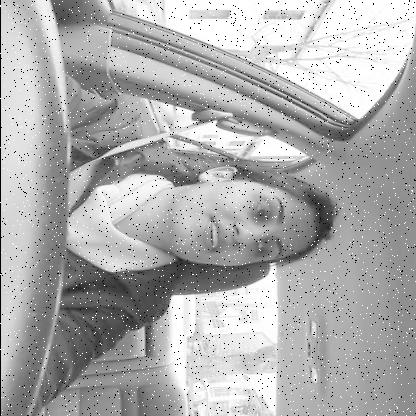seatbelt: (66, 102, 345, 274)
